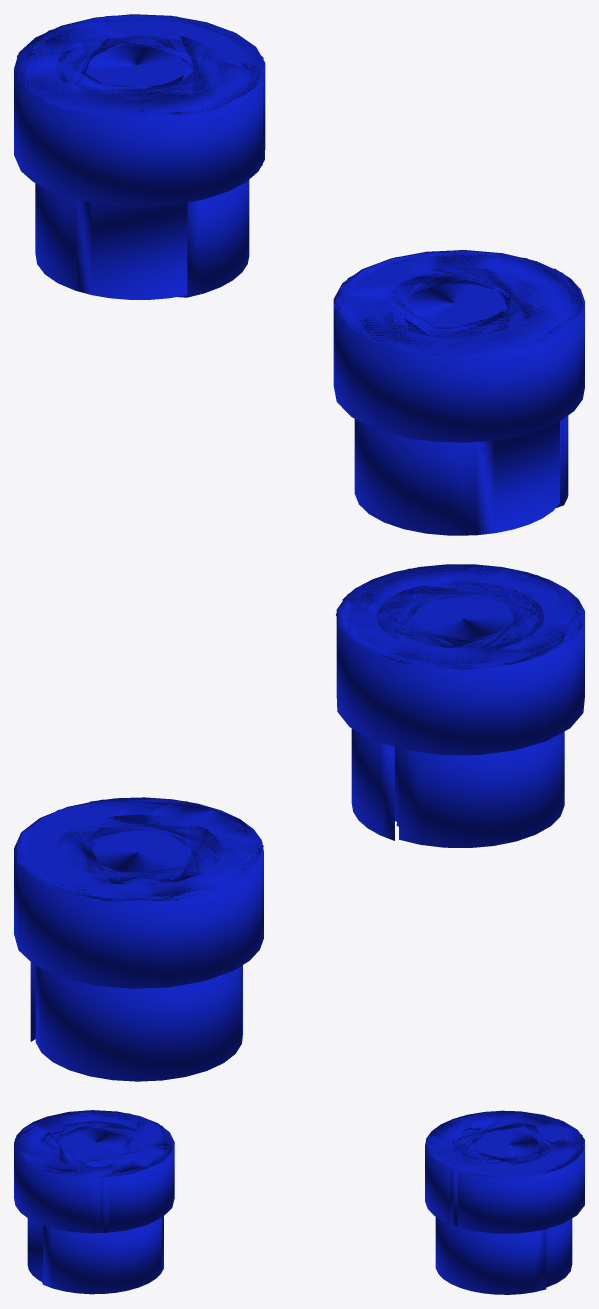
File: tuyeau_element_000086.obj
3 renders of one model, top to bottom at view 1: azimuth 30°, elevation 25°; view 2: azimuth 150°, elevation 25°; view 3: azimuth 270°, elevation 25°, orthographic. The views are drawn at different scales.
Parts seen in each view (by area): view 1: tuyeau1_Cube.014, tuyeau2_Cube.017; view 2: tuyeau2_Cube.017, tuyeau1_Cube.014; view 3: tuyeau2_Cube.017, tuyeau1_Cube.014.
Boxes of the visible parts, box(x1,y1,x2,y2) form: tuyeau1_Cube.014: box(14, 14, 265, 299); tuyeau2_Cube.017: box(333, 250, 584, 535); tuyeau2_Cube.017: box(335, 564, 584, 847); tuyeau1_Cube.014: box(14, 797, 263, 1081); tuyeau2_Cube.017: box(14, 1110, 174, 1294); tuyeau1_Cube.014: box(425, 1110, 584, 1294).
Size of the model in its own units: 3548 by 2917 by 12518.
